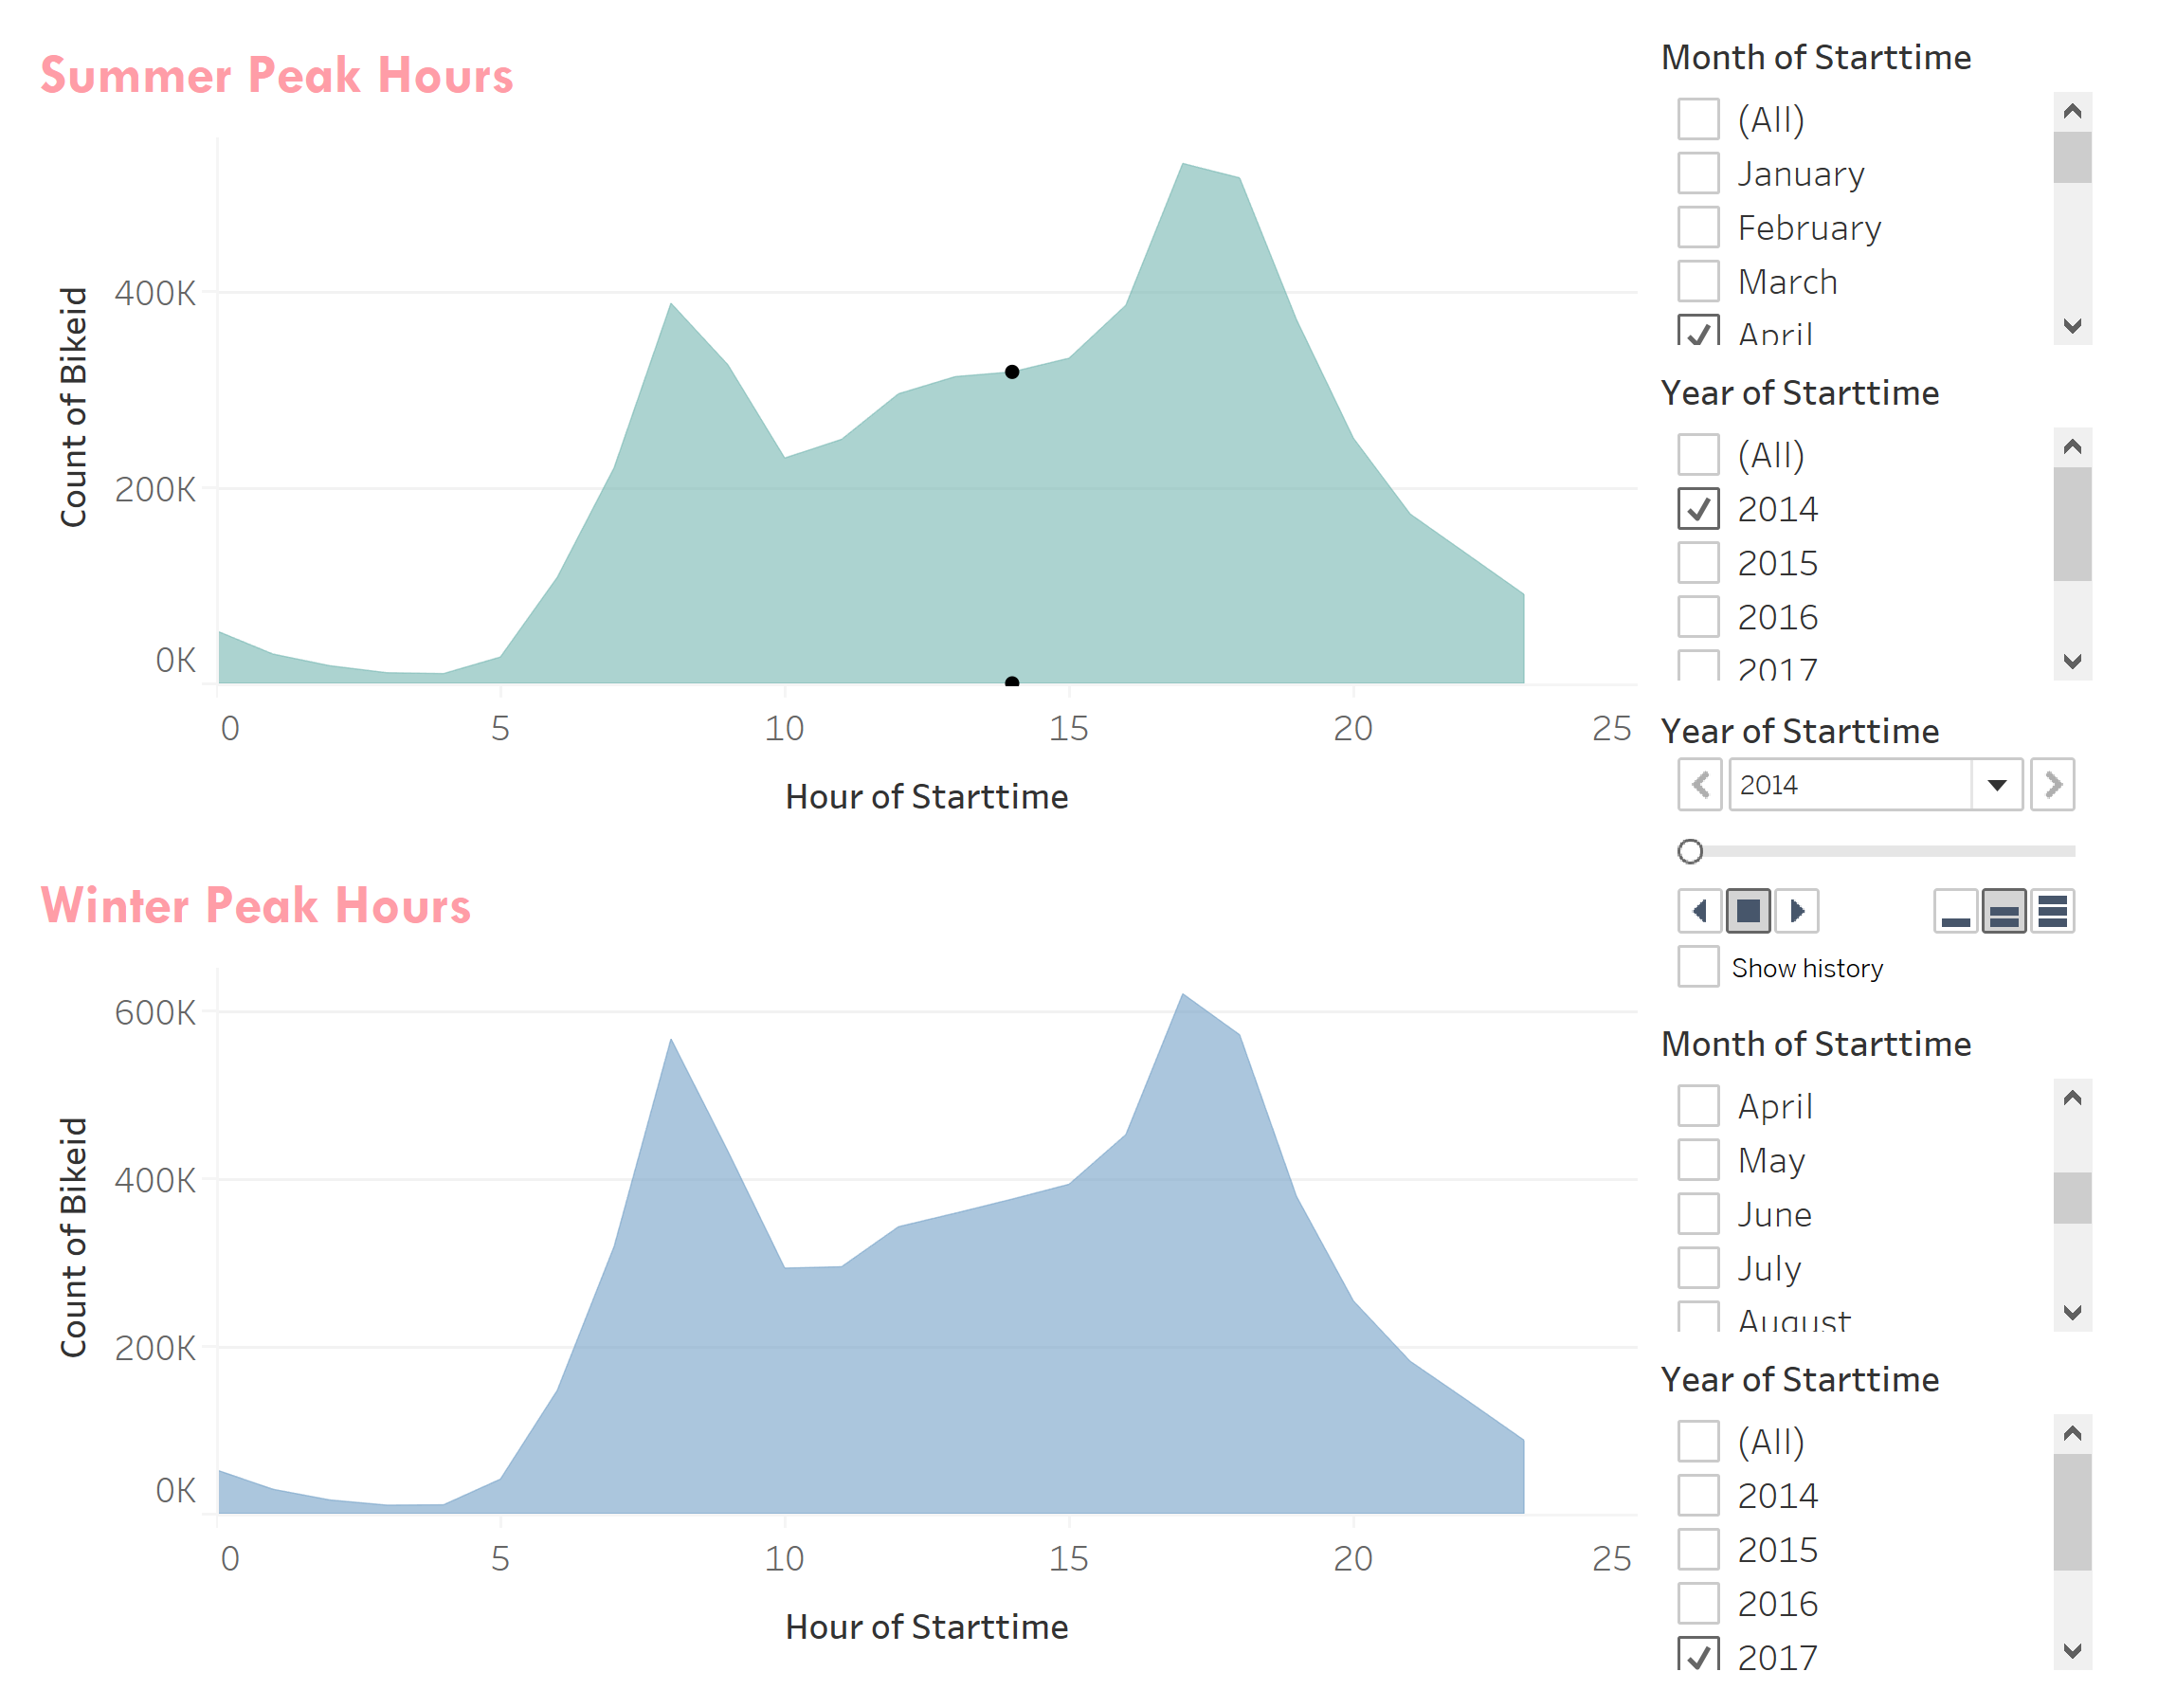

The page's visual inventory and layout, read from the dashboard file:
{"tool":"tableau","page":{"name":"Dashboard 3","canvas":[1000,800],"ordinal":2},"visuals":[{"type":"worksheet","title":"Sheet 4","mark":"Area","rows":["bikeid"],"cols":["starttime"],"box":[8,8,824,392]},{"type":"filter","title":"Sheet 4","param":"[federated.0o6bcyj08k7vi61bhyd3708n9wq9].[mn:starttime:ok]","box":[832,8,160,191]},{"type":"filter","title":"Sheet 4","param":"[federated.0o6bcyj08k7vi61bhyd3708n9wq9].[yr:starttime:ok]","box":[832,199,160,146]},{"type":"currpage","title":"Sheet 4","box":[832,345,160,110]},{"type":"worksheet","title":"Sheet 5","mark":"Area","rows":["bikeid"],"cols":["starttime"],"box":[8,400,824,392]},{"type":"filter","title":"Sheet 5","param":"[federated.0o6bcyj08k7vi61bhyd3708n9wq9].[mn:starttime:ok]","box":[832,455,160,191]},{"type":"filter","title":"Sheet 5","param":"[federated.0o6bcyj08k7vi61bhyd3708n9wq9].[yr:starttime:ok]","box":[832,646,160,146]}]}

Visuals, with their boxes in screenshot pixels (x1, y1, x2, y2), scaled from the page's 1000x800 canvas onto the 2158x1708 screenshot:
"Sheet 4" worksheet (Area marks): locate(17, 17, 1795, 854)
"Sheet 4" filter: locate(1795, 17, 2141, 425)
"Sheet 4" filter: locate(1795, 425, 2141, 736)
"Sheet 4" currpage: locate(1795, 736, 2141, 972)
"Sheet 5" worksheet (Area marks): locate(17, 854, 1795, 1691)
"Sheet 5" filter: locate(1795, 972, 2141, 1379)
"Sheet 5" filter: locate(1795, 1379, 2141, 1691)
